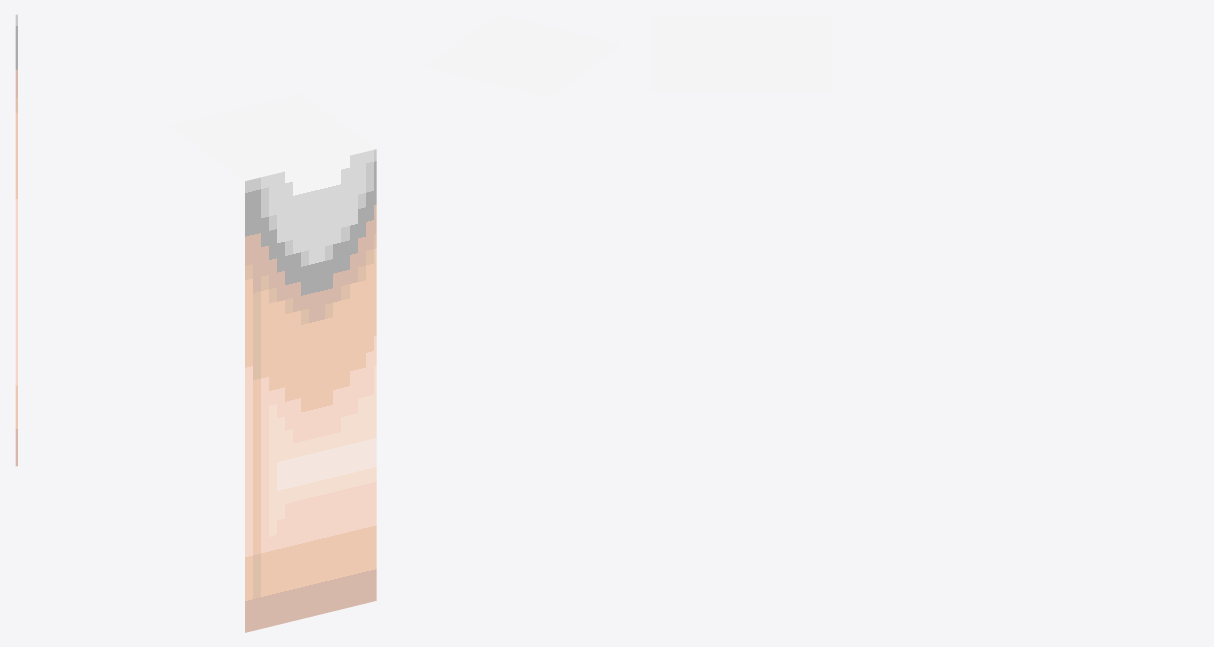
3 views of the same model, side by side, from view 1: azimuth 30°, elevation 25°; view 2: azimuth 150°, elevation 25°; view 3: azimuth 270°, elevation 25° (orthographic). The views are drawn at different scales.
Size of the model in its own units: 0.5063 by 1.64 by 1.51.
1 material, 1 textured.
